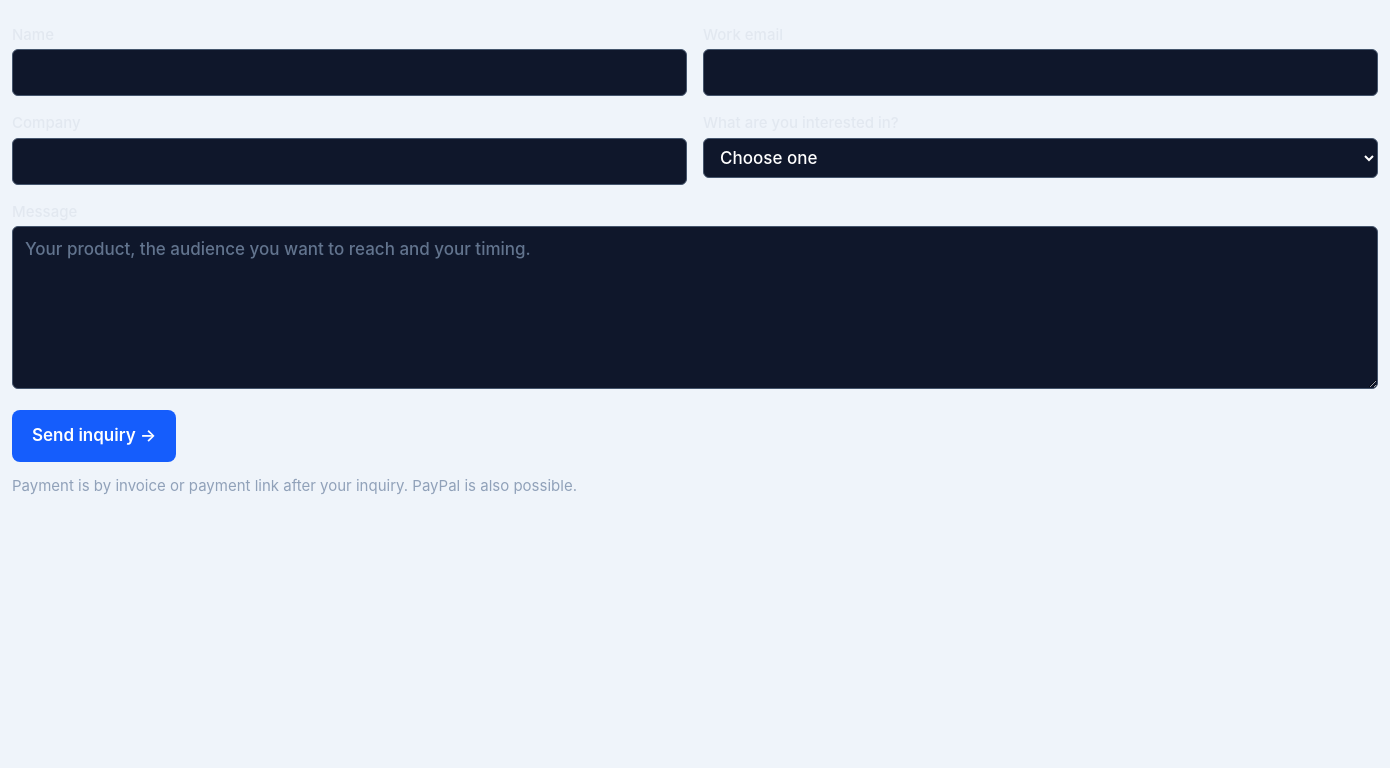
Test: sponsor inquiry recovery › preserves the draft for network errors
This screenshot has width=1390, height=768.
In the field labelled "Name": {"x": 350, "y": 73} [12,49,687,96], type "Reliability test"
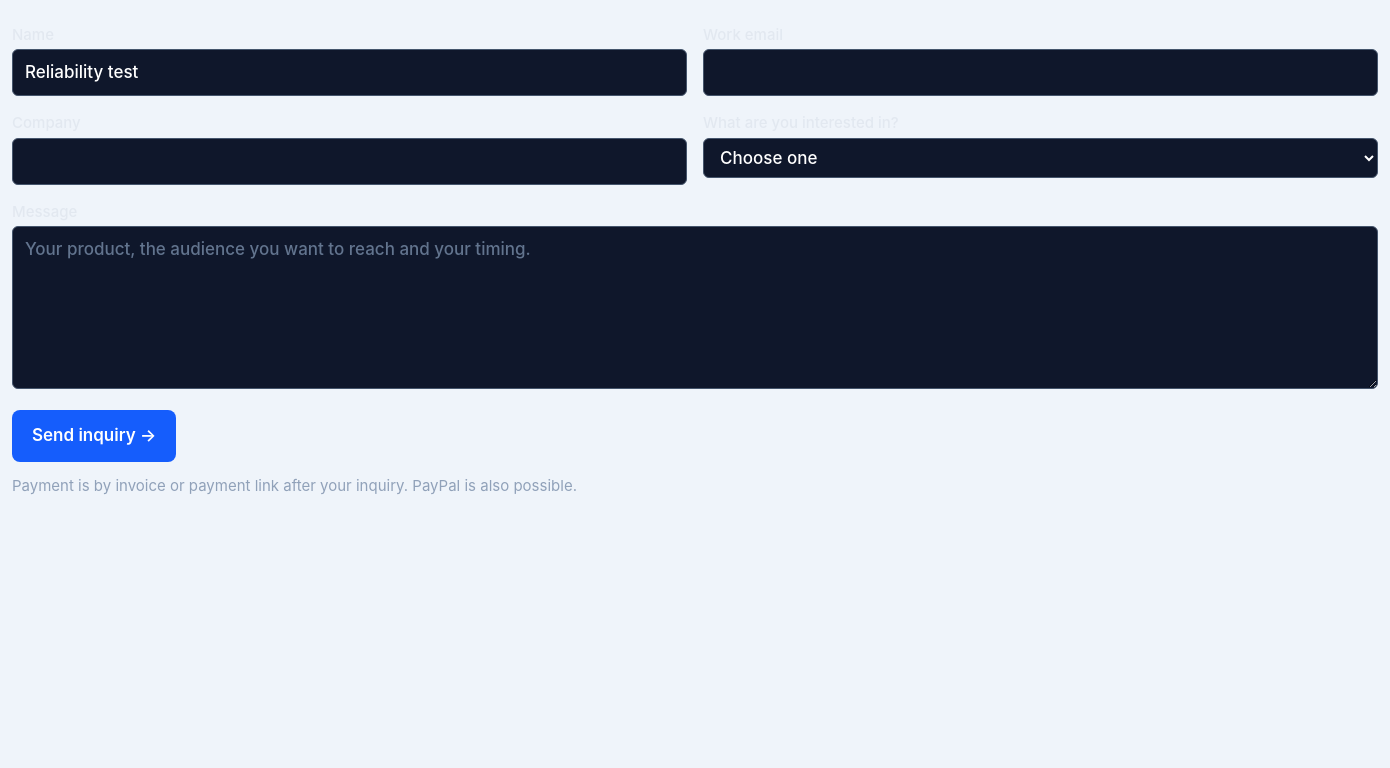
In the field labelled "Work email": {"x": 1040, "y": 73} [703,49,1378,96], type "test@example.com"
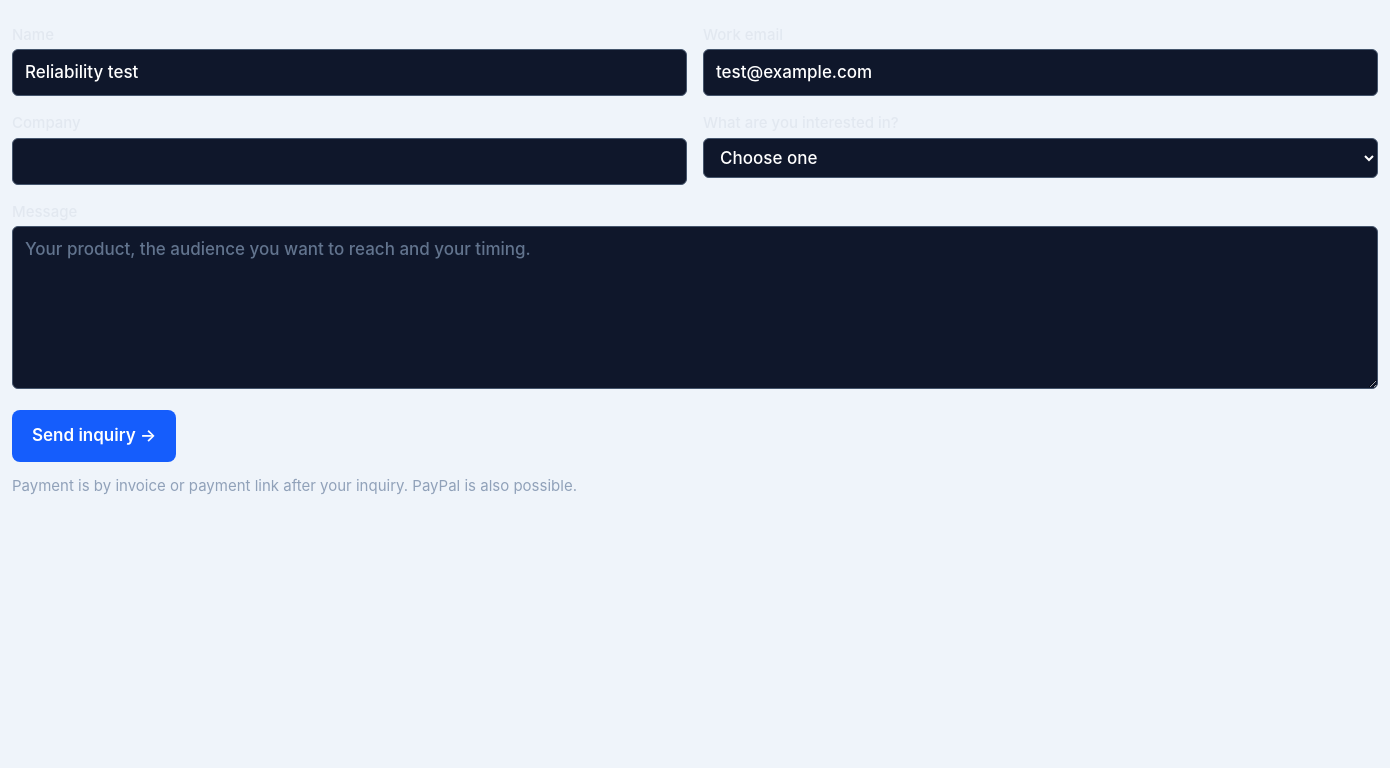
In the field labelled "Company": {"x": 350, "y": 161} [12,138,687,185], type "Synthetic test"
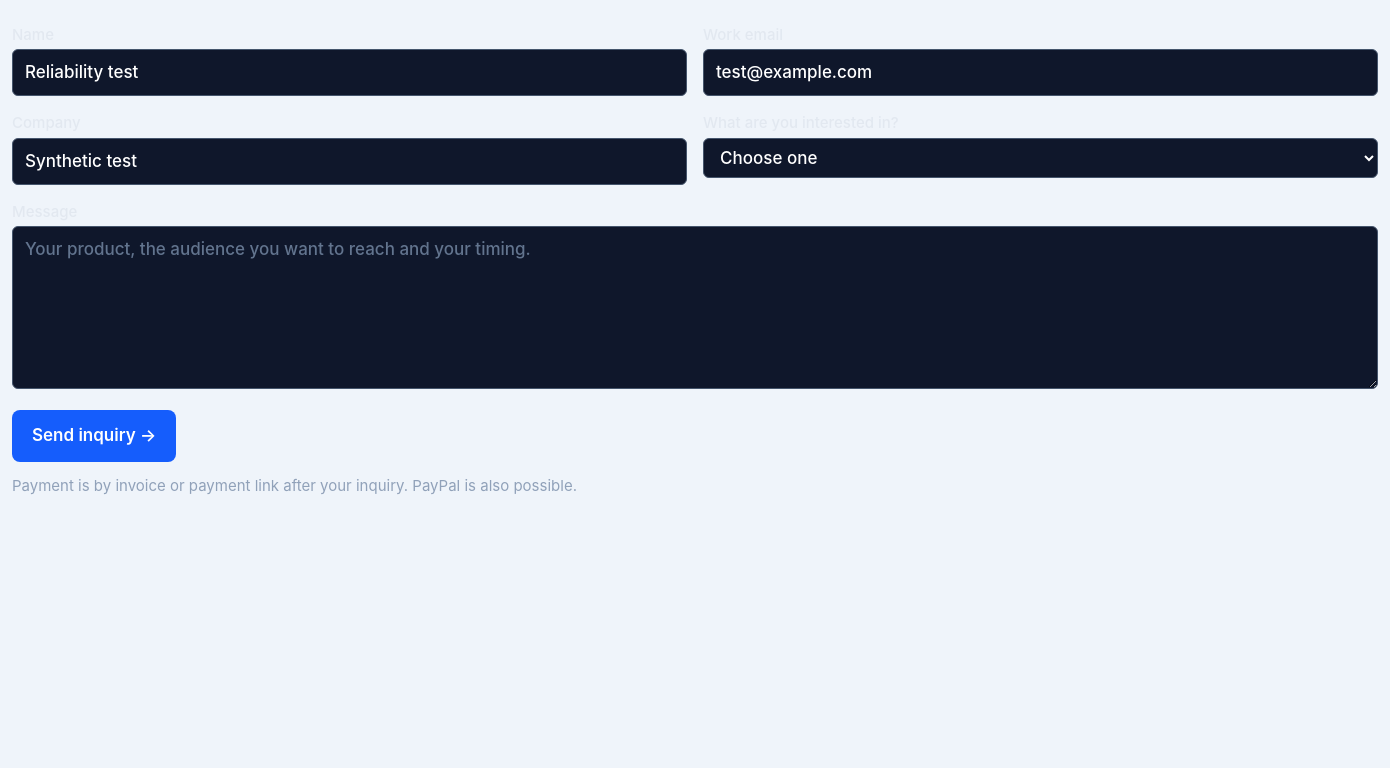
Select "Single Brief slot — $39" in the dropdown labelled "What are you interested in?": {"x": 1040, "y": 158} [703,138,1378,178]
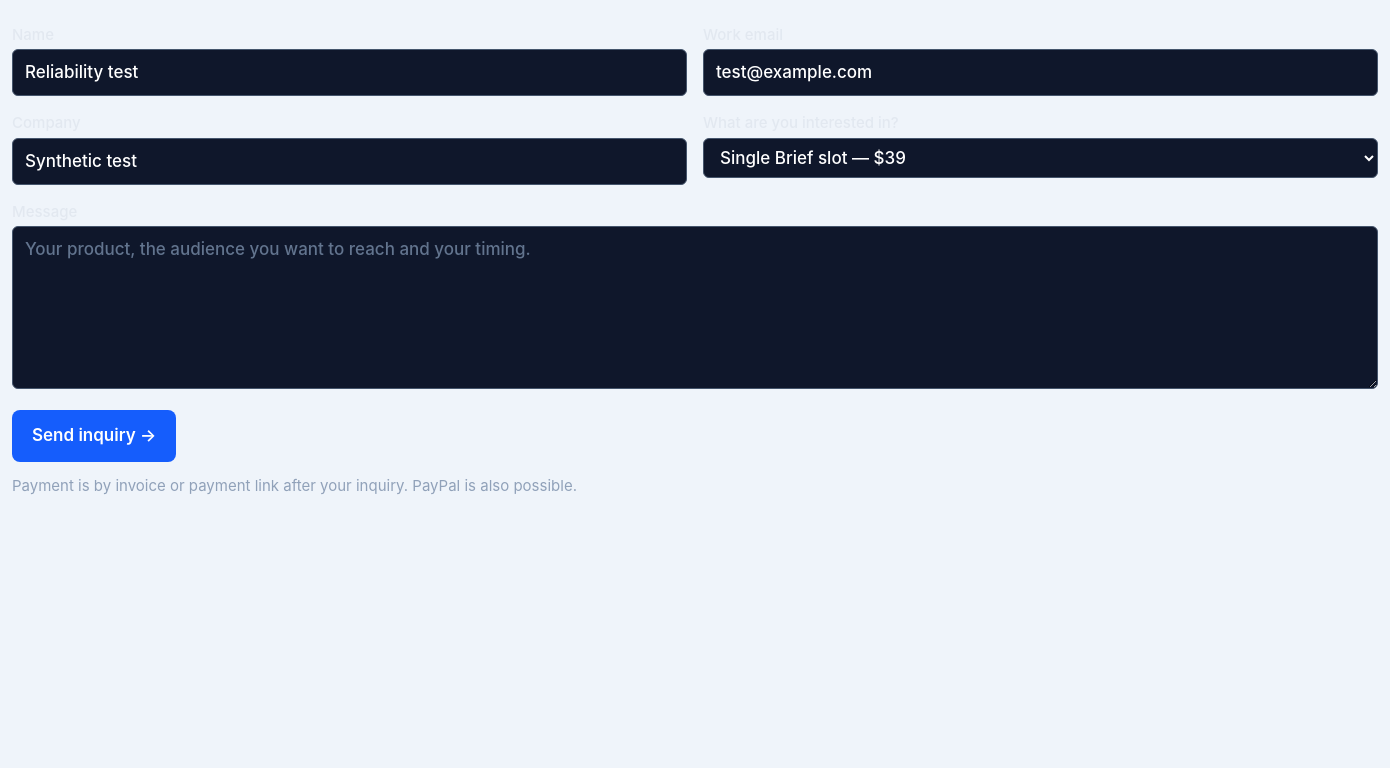
Replace the text in the text box labelled "Message" with "Synthetic inquiry, not a sponsorship booking.": {"x": 695, "y": 307} [12,226,1378,388]
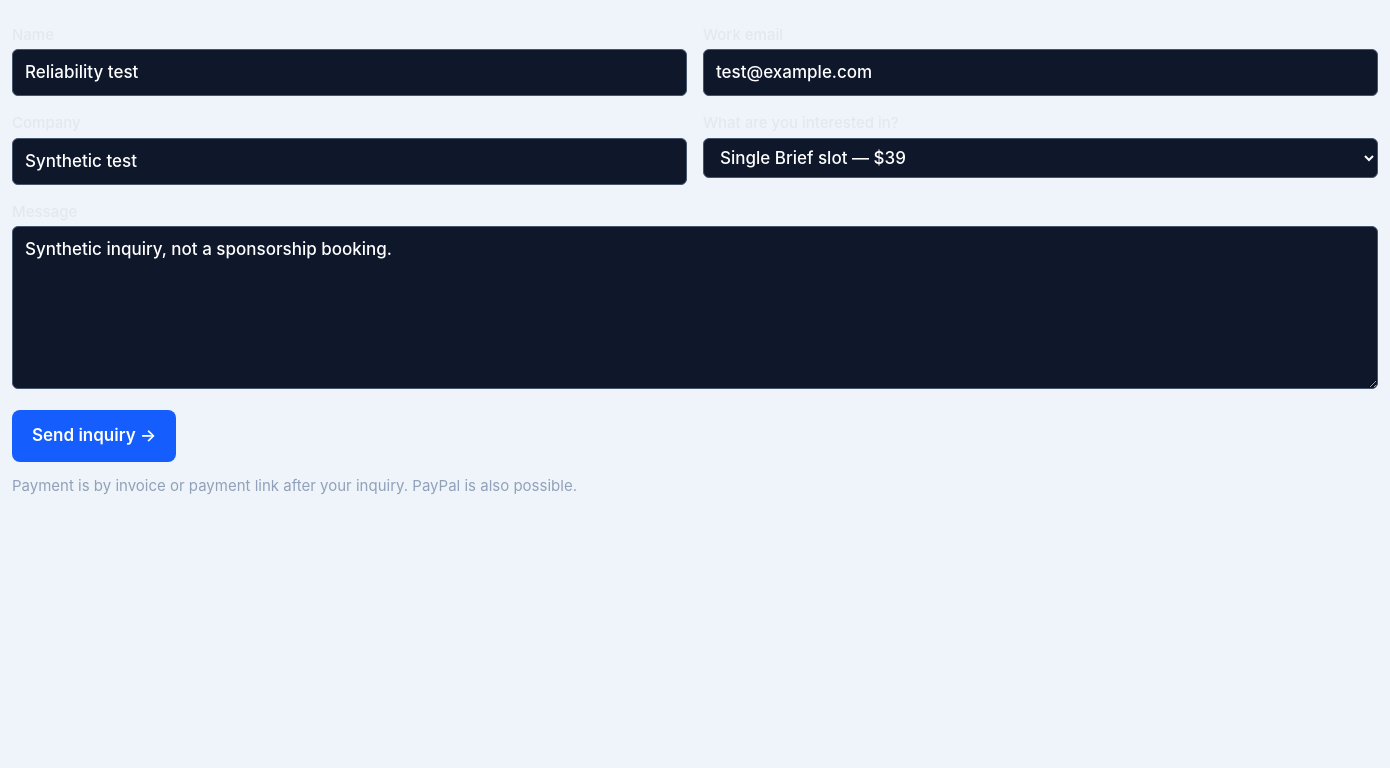
Submit the form
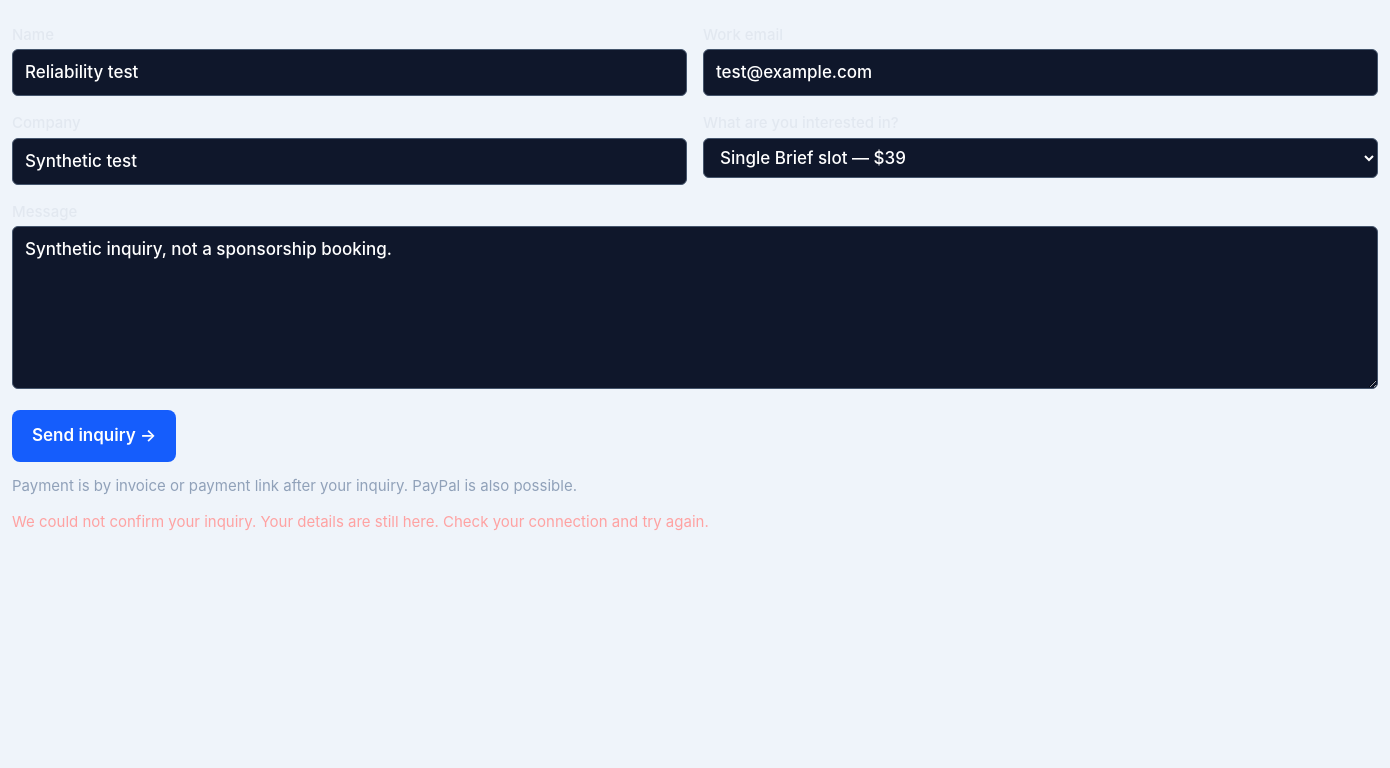
expect the message shows "details are still here": met, box [12,512,709,531]
